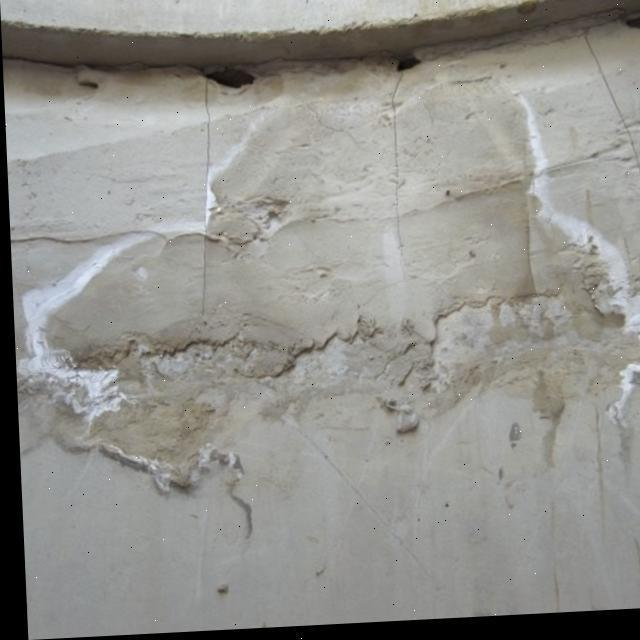D01: (518, 94, 639, 329), (18, 237, 146, 425)
